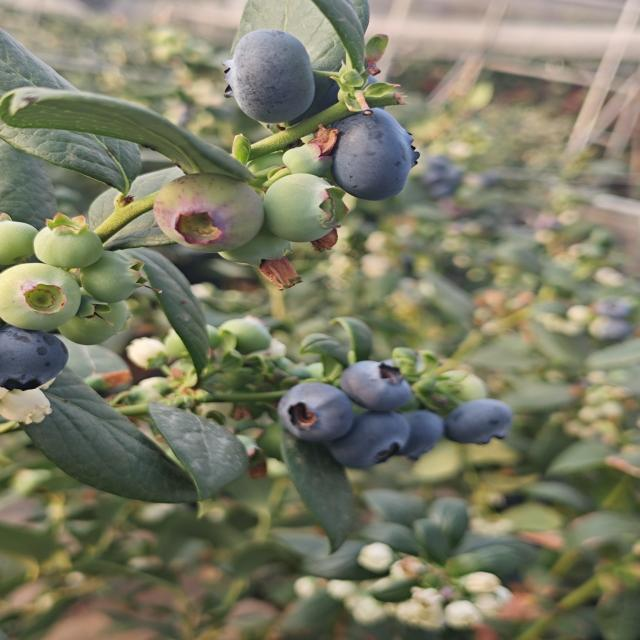ripe: (215, 26, 320, 130), (317, 106, 421, 204), (278, 59, 402, 130), (271, 378, 359, 446), (328, 406, 415, 472), (0, 328, 81, 394), (337, 359, 415, 415), (450, 398, 526, 442), (391, 409, 448, 465)
